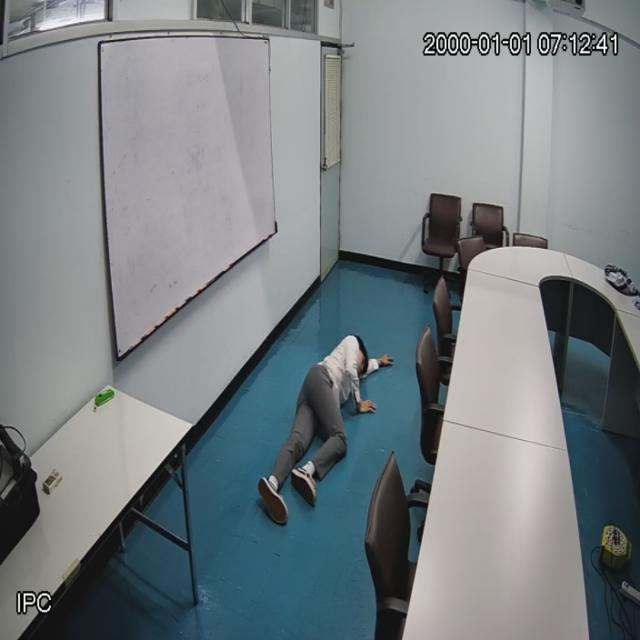fall: (259, 335, 380, 509)
